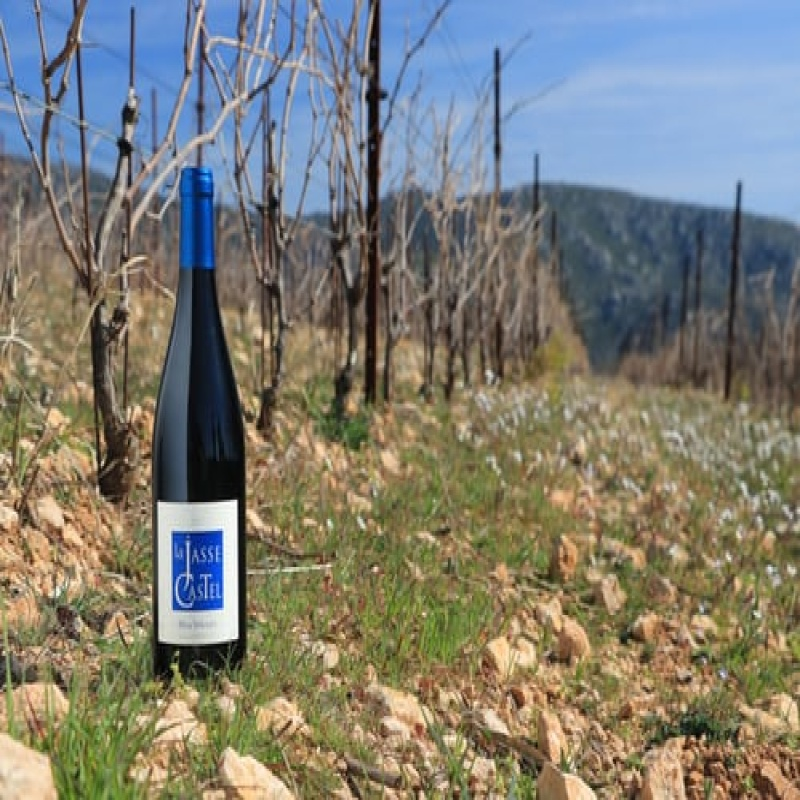wine: (147, 170, 254, 674)
